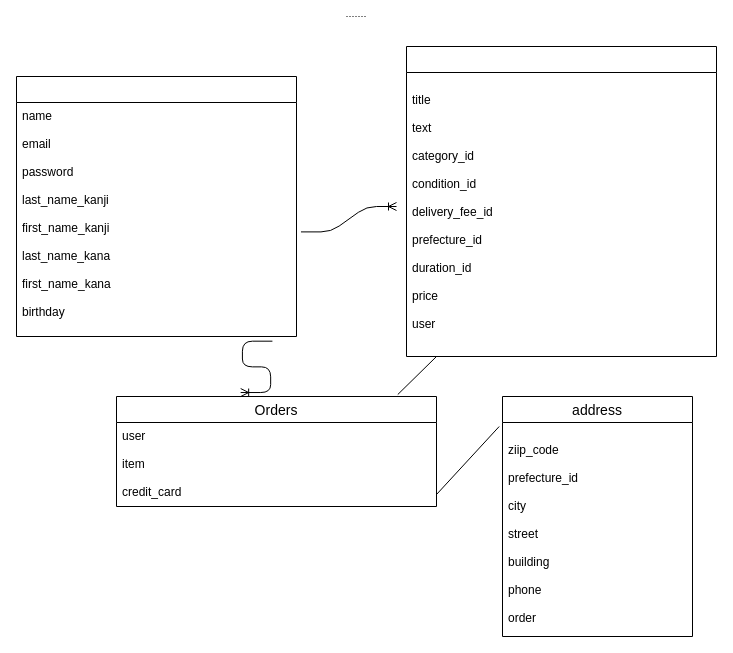
Some shapes in this 733 by 653 pixel diagram are drawn without their labels. Each missing label, with the box of its shape:
items: (406, 46, 716, 356)
Users: (16, 76, 296, 336)
